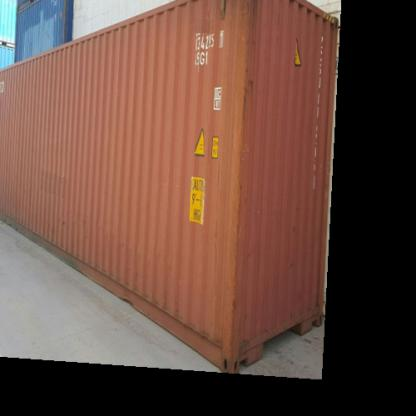Damage: (215, 1, 263, 361)
